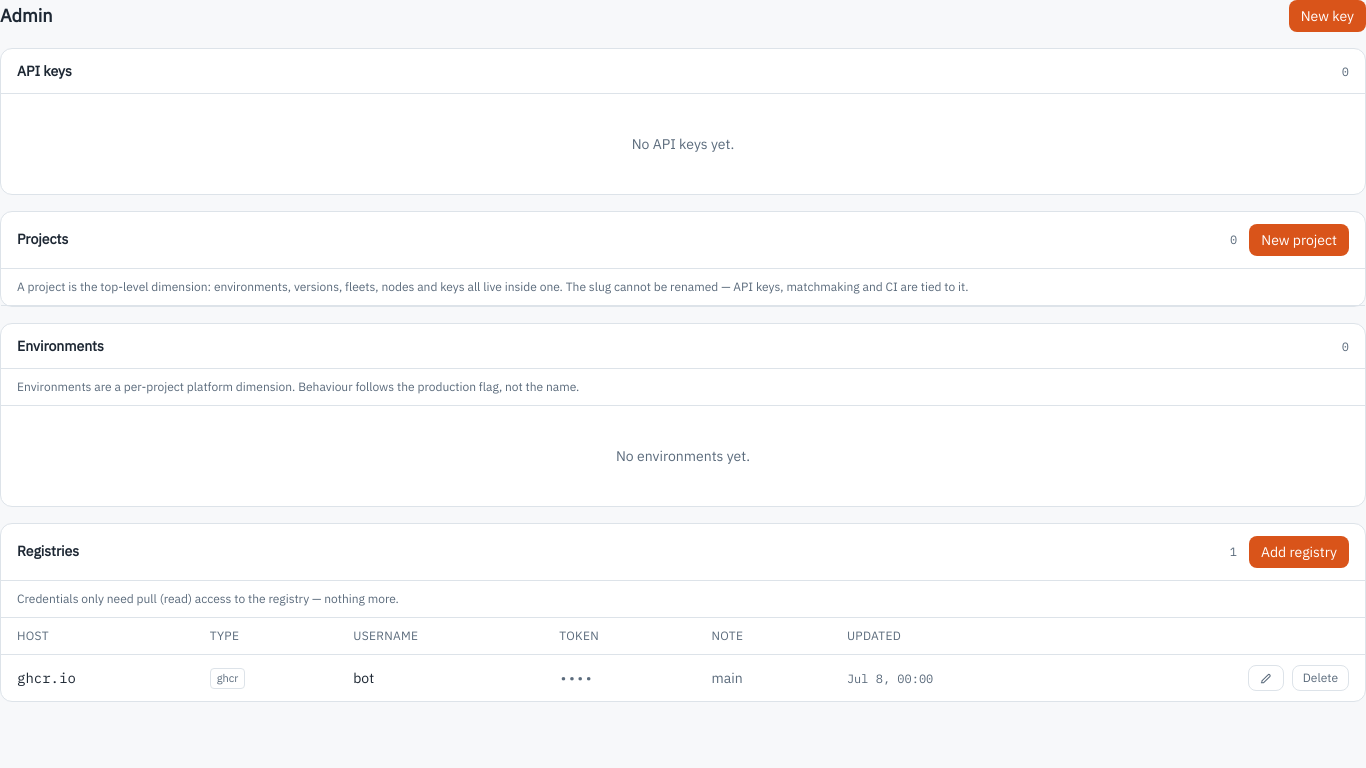
Test: Реестры — редактирование (PATCH) › пустой token → PATCH БЕЗ token в теле (секрет не трогаем)
This screenshot has width=1366, height=768.
expect the text "ghcr.io" is shown: met, box [17, 669, 76, 687]
Click the button named "Edit". click: x=1266, y=678
box: [1248, 665, 1284, 691]
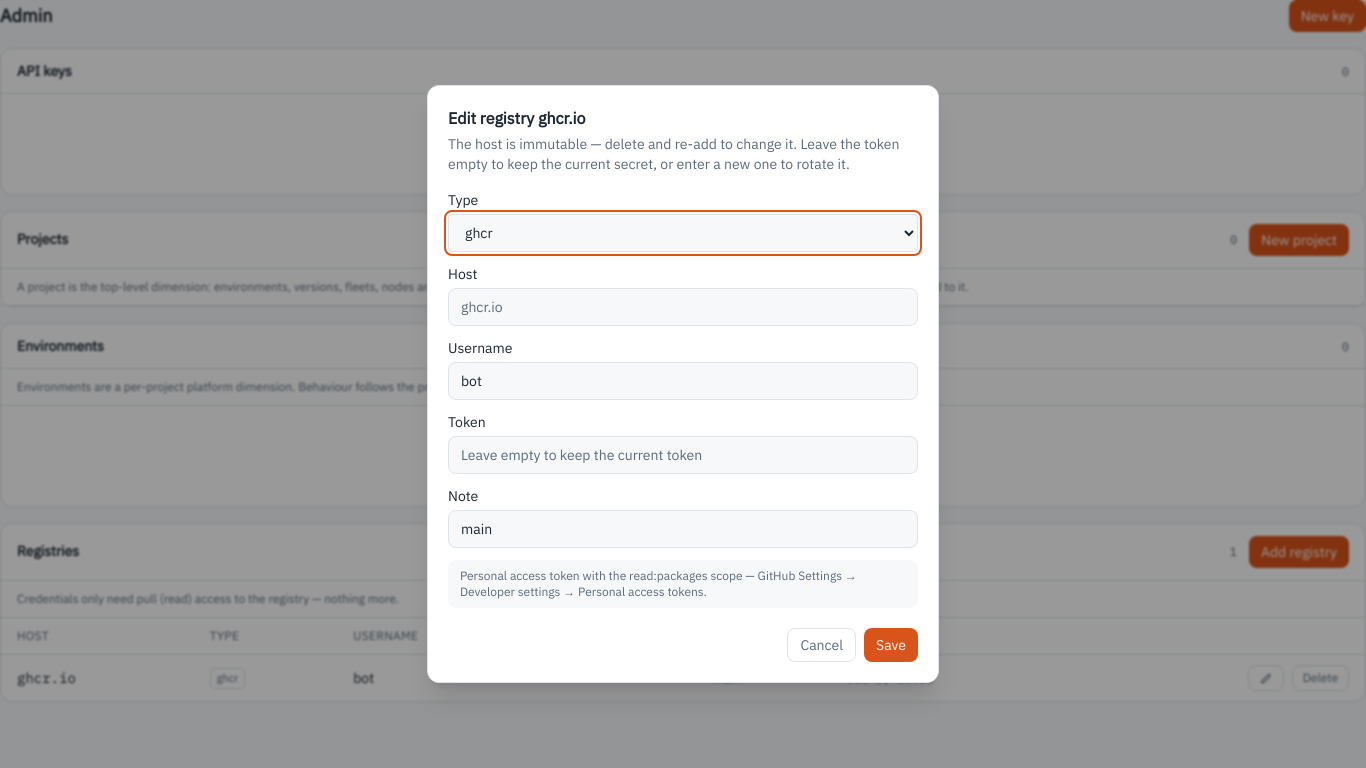
Replace the text in the field labelled "Username" with "bot2". click: x=683, y=381
box: [448, 362, 918, 400]
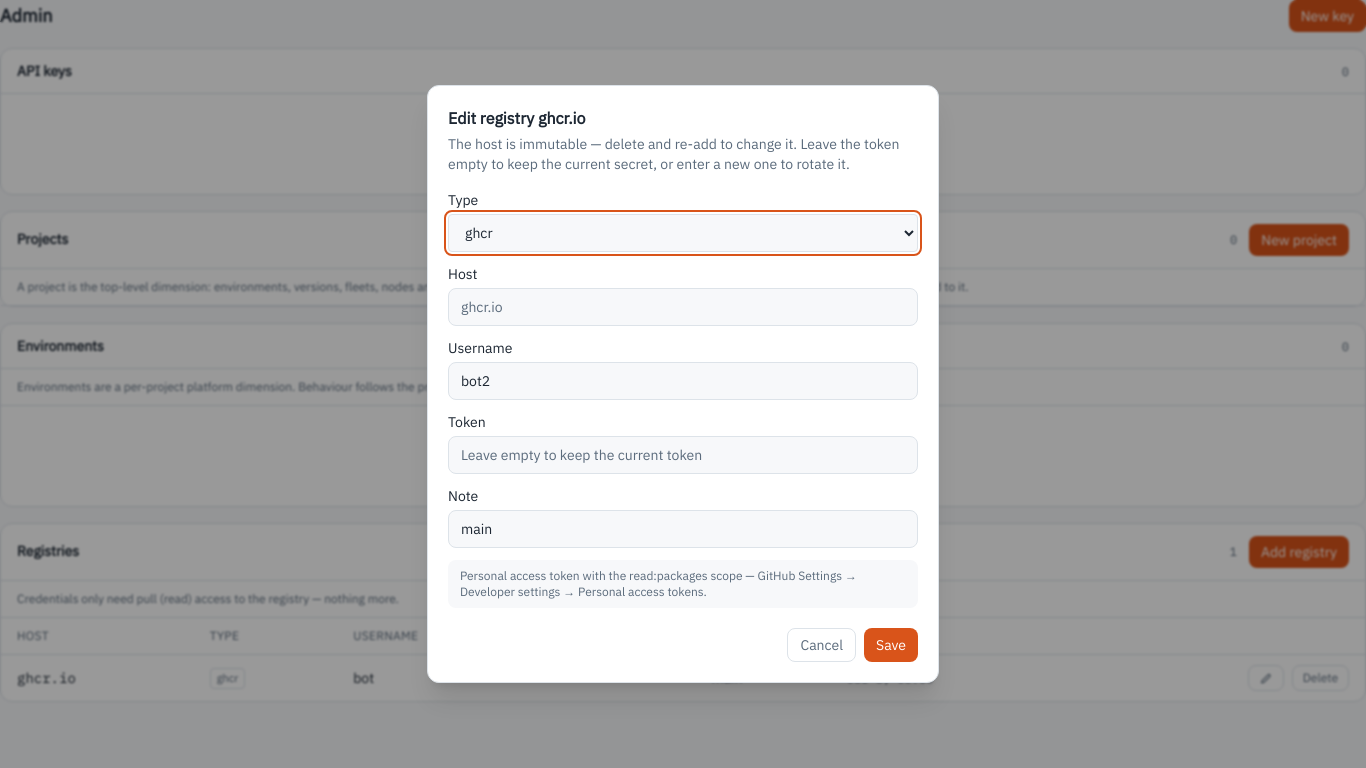
# token оставляем пустым.
Click the button "Save". click: x=891, y=645
box: [864, 628, 918, 662]
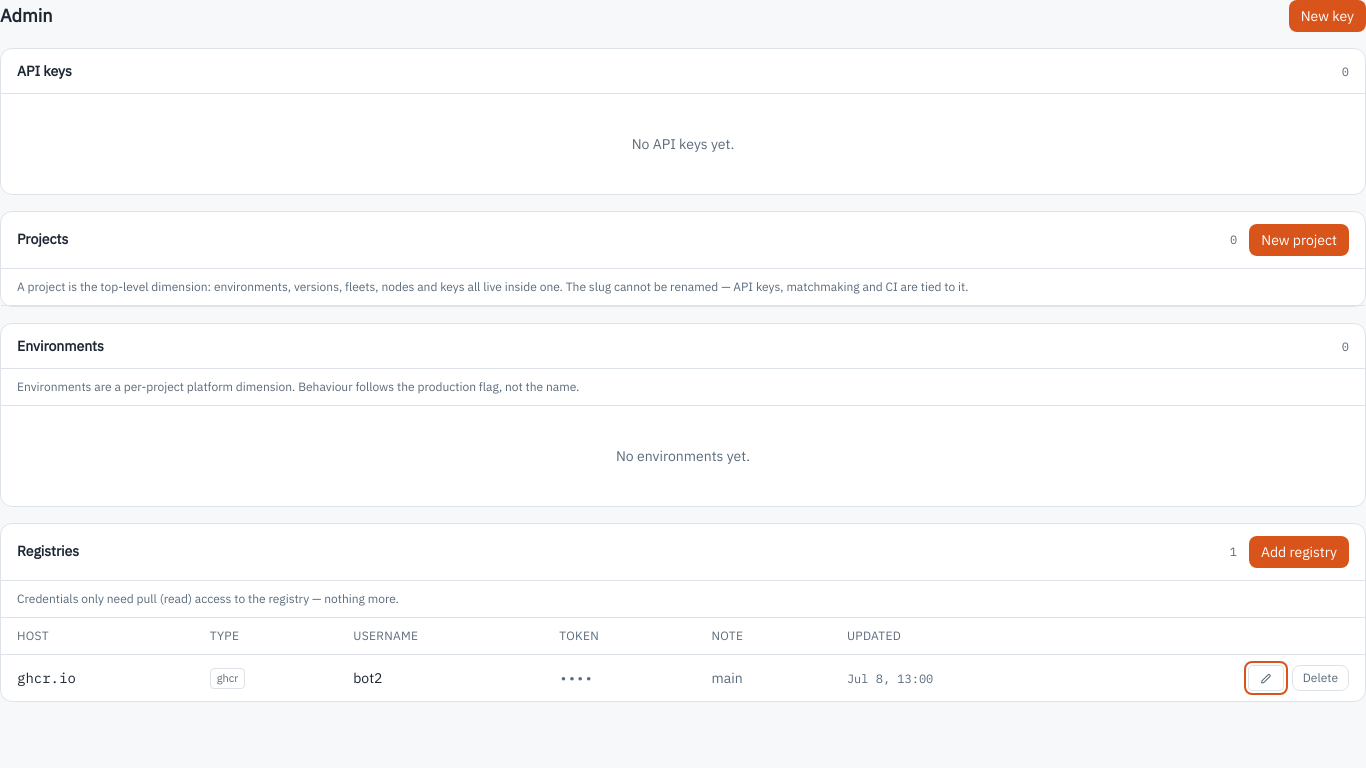
expect the text "bot2" is shown: met, box [353, 669, 382, 687]
